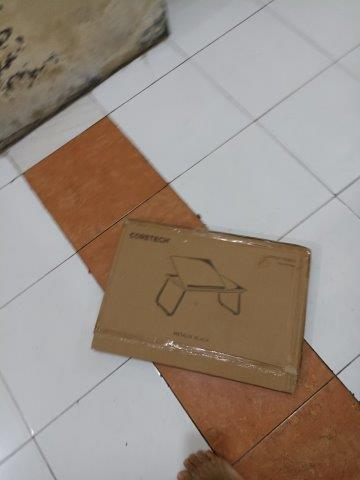kardus: (97, 221, 311, 393)
